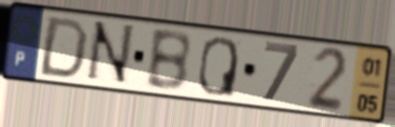2: (306, 45, 350, 114)
7: (260, 39, 303, 105)
B: (143, 29, 193, 94)
D: (35, 15, 91, 81)
N: (81, 19, 137, 88)
Q: (196, 35, 240, 100)
